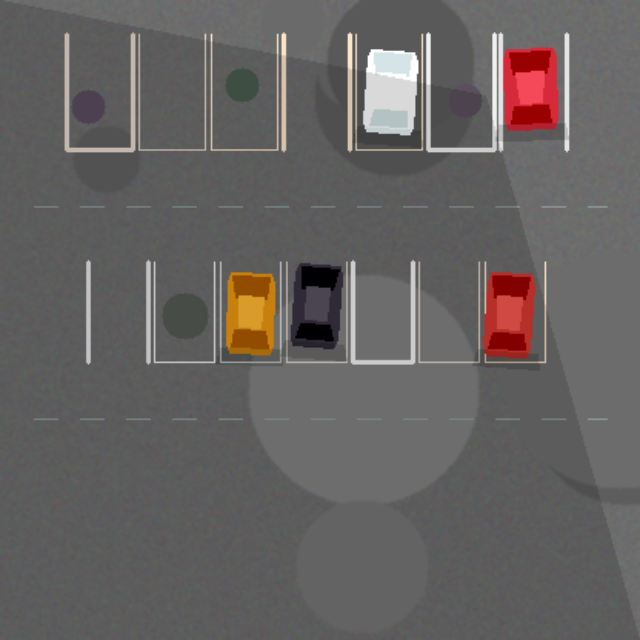space-empty: (138, 34, 205, 149), (66, 34, 132, 149), (211, 34, 277, 149), (283, 34, 349, 149), (428, 34, 494, 149), (88, 262, 148, 362), (154, 262, 214, 362), (352, 262, 412, 362), (418, 262, 478, 362)
space-occupied: (355, 34, 422, 149), (500, 34, 566, 149), (220, 262, 280, 362), (286, 262, 346, 362), (485, 262, 545, 362)
